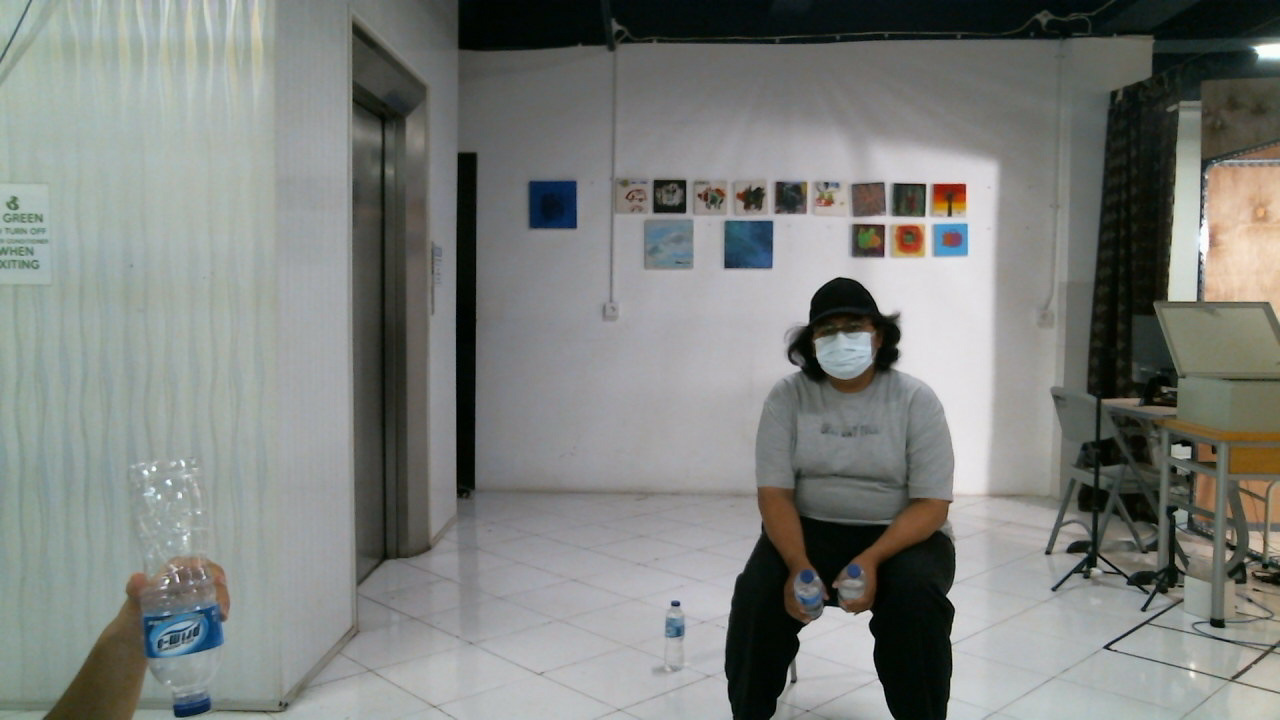Bottle: (128, 457, 223, 715)
